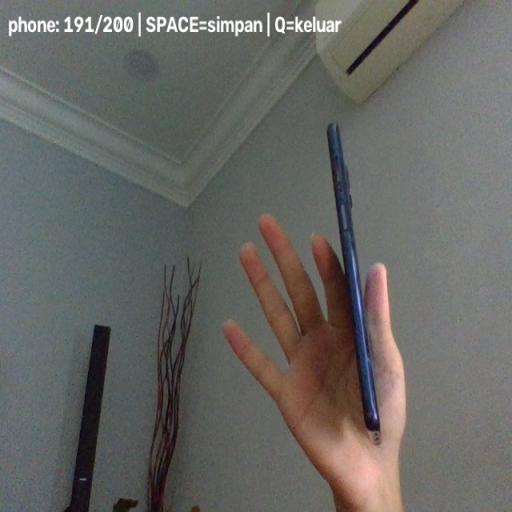Phone: (326, 122, 382, 444)
